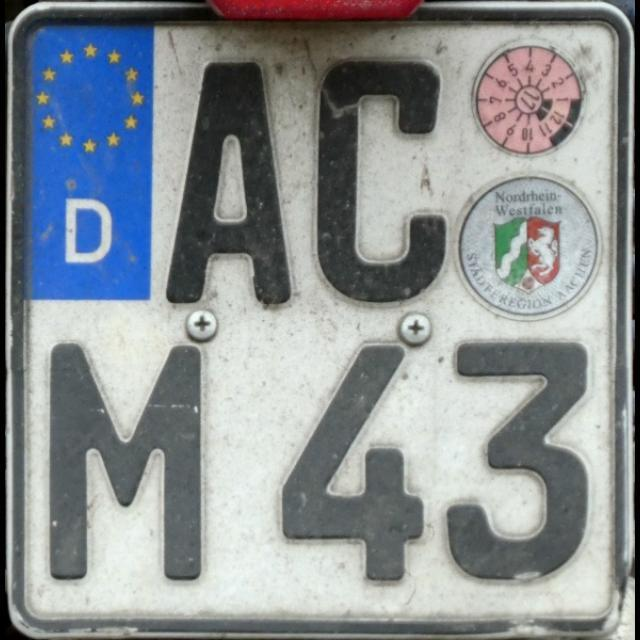license-plates: (8, 2, 636, 640)
